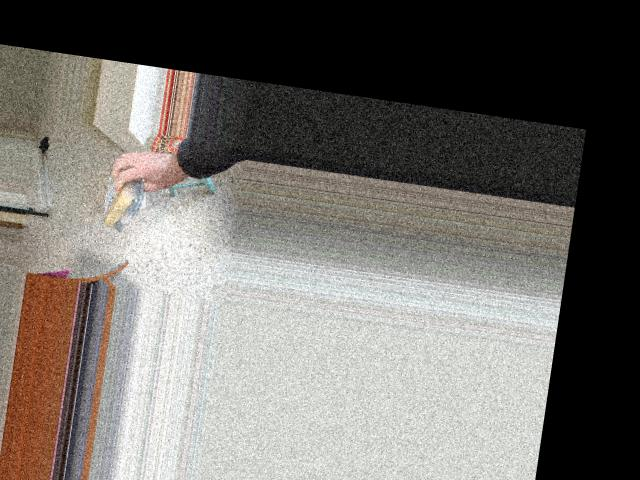cheese: (99, 164, 141, 234)
